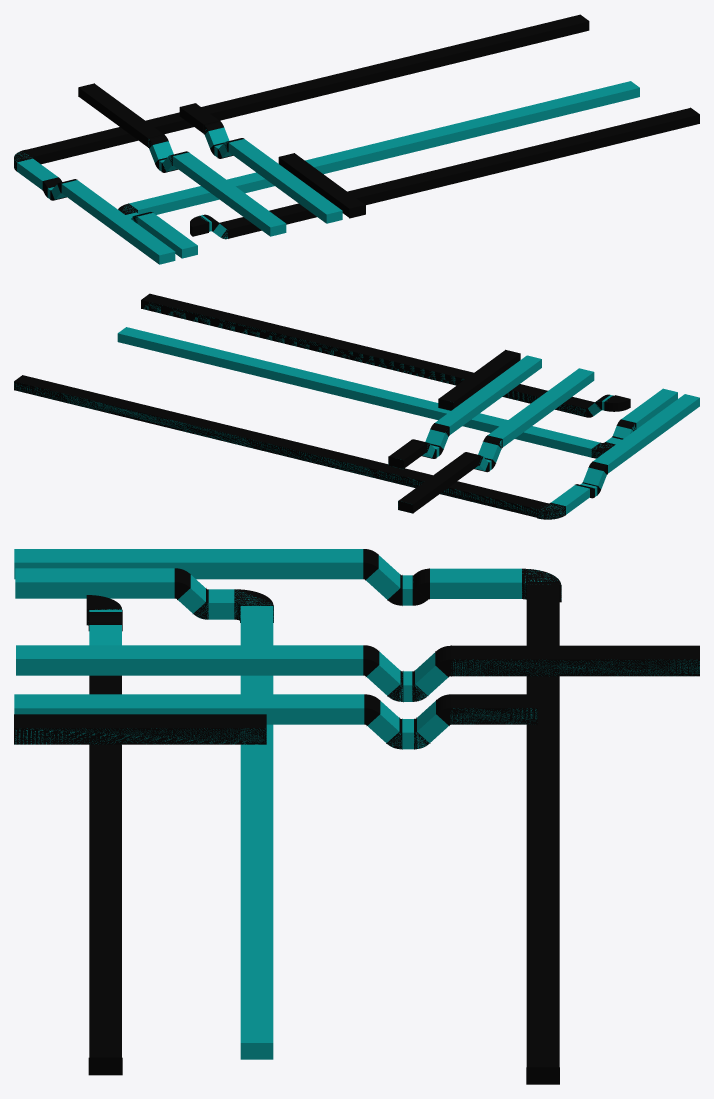
The model's file is GCC-AAV-13220-30.nwd(26).fbx.
3 renders of one model, top to bottom at view 1: azimuth 30°, elevation 25°; view 2: azimuth 150°, elevation 25°; view 3: azimuth 270°, elevation 25°, orthographic. The views are drawn at different scales.
Visible parts, largest first — view 1: Параллелепипед (×6), STRT 1 of BRANCH /794-13220-BD-001-EF-201F-EA-0001-008, STRT 1 of BRANCH /794-13220-BD-001-EF-201D-EA-0001-010, STRT 1 of BRANCH /794-13220-BD-001-AHU-201D-SAA-0001-009, STRT 1 of BRANCH /794-13220-BD-001-AHU-201F-SAA-0001-009, STRT 1 of BRANCH /794-13220-BD-001-AHU-201E-SAA-0001-009; view 2: Параллелепипед (×6), STRT 1 of BRANCH /794-13220-BD-001-EF-201F-EA-0001-008 (×2), STRT 1 of BRANCH /794-13220-BD-001-EF-201D-EA-0001-010 (×2), STRT 1 of BRANCH /794-13220-BD-001-AHU-201F-SAA-0001-009, STRT 1 of BRANCH /794-13220-BD-001-AHU-201D-SAA-0001-009, STRT 1 of BRANCH /794-13220-BD-001-AHU-201E-SAA-0001-009, ELBOW 14 of BRANCH /794-13220-BD-001-EF-201F-EA-0001-009, ELBOW 3 of BRANCH /794-13220-BD-001-EF-201D-EA-0001-010; view 3: Параллелепипед (×9), STRT 1 of BRANCH /794-13220-BD-001-EF-201F-EA-0001-008, STRT 1 of BRANCH /794-13220-BD-001-EF-201D-EA-0001-010, STRT 1 of BRANCH /794-13220-BD-001-AHU-201F-SAA-0001-009 (×2), STRT 1 of BRANCH /794-13220-BD-001-AHU-201D-SAA-0001-009 (×2), STRT 1 of BRANCH /794-13220-BD-001-AHU-201E-SAA-0001-009.
Boxes of the visible parts, x1,y1,x2,y2 form: Параллелепипед (×6): (17,81,639,264); STRT 1 of BRANCH /794-13220-BD-001-EF-201F-EA-0001-008: (22,14,589,164); STRT 1 of BRANCH /794-13220-BD-001-EF-201D-EA-0001-010: (219,107,699,238); STRT 1 of BRANCH /794-13220-BD-001-AHU-201D-SAA-0001-009: (278,153,365,218); STRT 1 of BRANCH /794-13220-BD-001-AHU-201F-SAA-0001-009: (78,83,163,146); STRT 1 of BRANCH /794-13220-BD-001-AHU-201E-SAA-0001-009: (179,103,220,133); Параллелепипед (×6): (117,327,699,514); STRT 1 of BRANCH /794-13220-BD-001-EF-201F-EA-0001-008 (×2): (14,375,548,517); STRT 1 of BRANCH /794-13220-BD-001-EF-201D-EA-0001-010 (×2): (141,293,594,416); STRT 1 of BRANCH /794-13220-BD-001-AHU-201F-SAA-0001-009: (398,452,479,513); STRT 1 of BRANCH /794-13220-BD-001-AHU-201D-SAA-0001-009: (438,349,520,410); STRT 1 of BRANCH /794-13220-BD-001-AHU-201E-SAA-0001-009: (388,439,426,468); ELBOW 14 of BRANCH /794-13220-BD-001-EF-201F-EA-0001-009: (537,502,565,519); ELBOW 3 of BRANCH /794-13220-BD-001-EF-201D-EA-0001-010: (604,395,630,411); Параллелепипед (×9): (14,549,521,1059); STRT 1 of BRANCH /794-13220-BD-001-EF-201F-EA-0001-008: (526,582,559,1084); STRT 1 of BRANCH /794-13220-BD-001-EF-201D-EA-0001-010: (88,675,122,1075); STRT 1 of BRANCH /794-13220-BD-001-AHU-201F-SAA-0001-009 (×2): (451,645,699,676); STRT 1 of BRANCH /794-13220-BD-001-AHU-201D-SAA-0001-009 (×2): (14,714,266,744); STRT 1 of BRANCH /794-13220-BD-001-AHU-201E-SAA-0001-009: (450,694,537,724).
Bounding box in the file's own units: 2553 × 106 × 1482.
